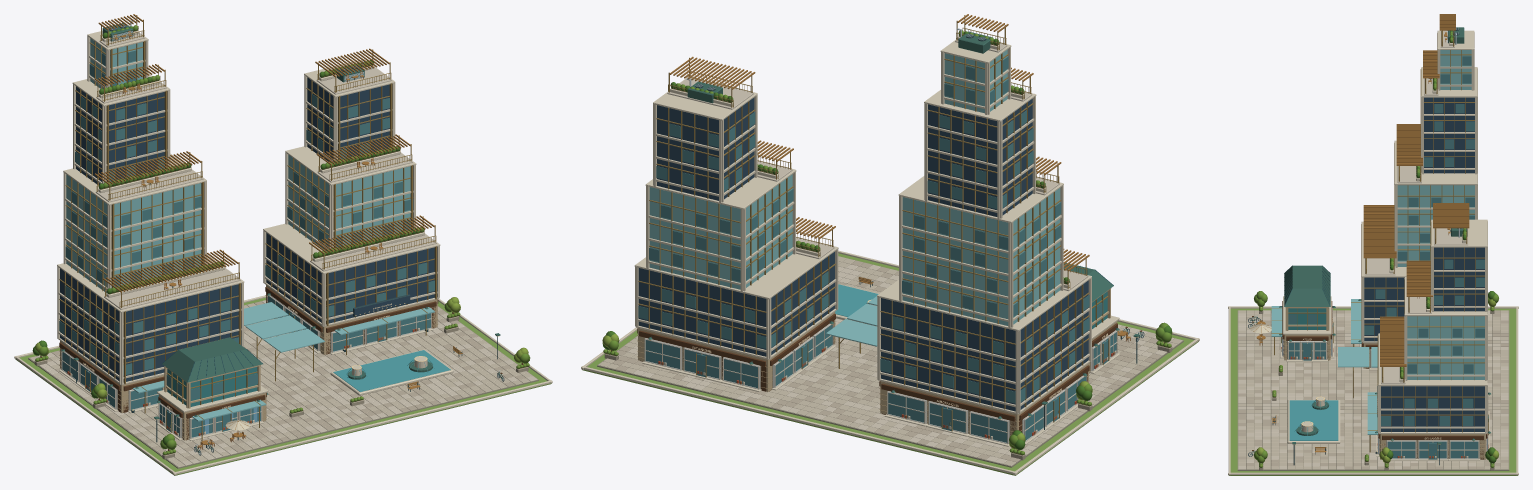
Rendered from level-8.glb.
3 renders of one model, left to right at view 1: azimuth 30°, elevation 25°; view 2: azimuth 150°, elevation 25°; view 3: azimuth 270°, elevation 25°, orthographic. The views are drawn at different scales.
Parts seen in each view (by area): view 1: landmark_additions_geometry; view 2: landmark_additions_geometry; view 3: landmark_additions_geometry.
Part boxes in pixels (x1,y1,x2,y2): landmark_additions_geometry: (14,14,552,475); landmark_additions_geometry: (581,14,1199,475); landmark_additions_geometry: (1228,14,1518,475).
Size of the model in its own units: 60 by 52.96 by 44.
